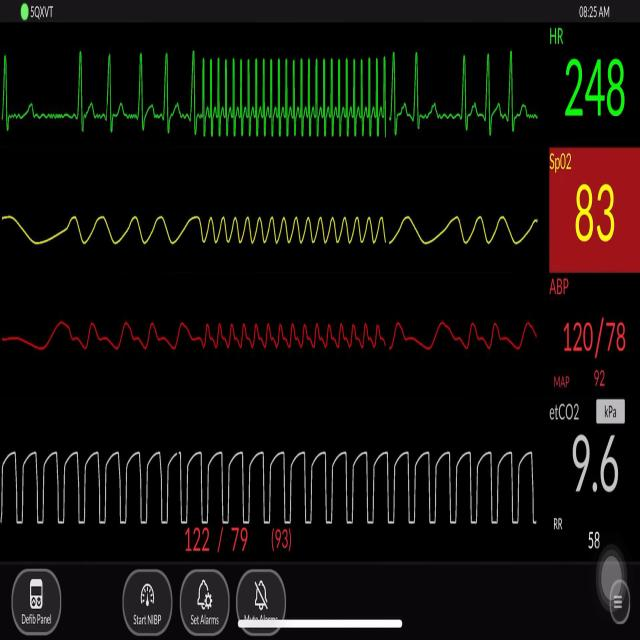danger: (185, 36, 400, 151)
